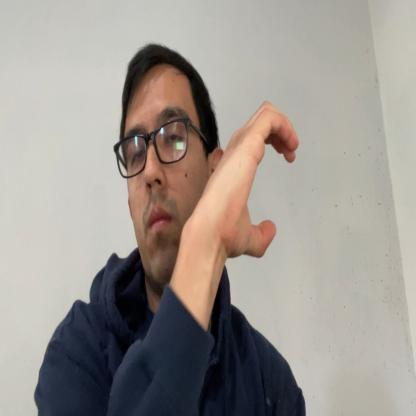C: (226, 100, 300, 258)
